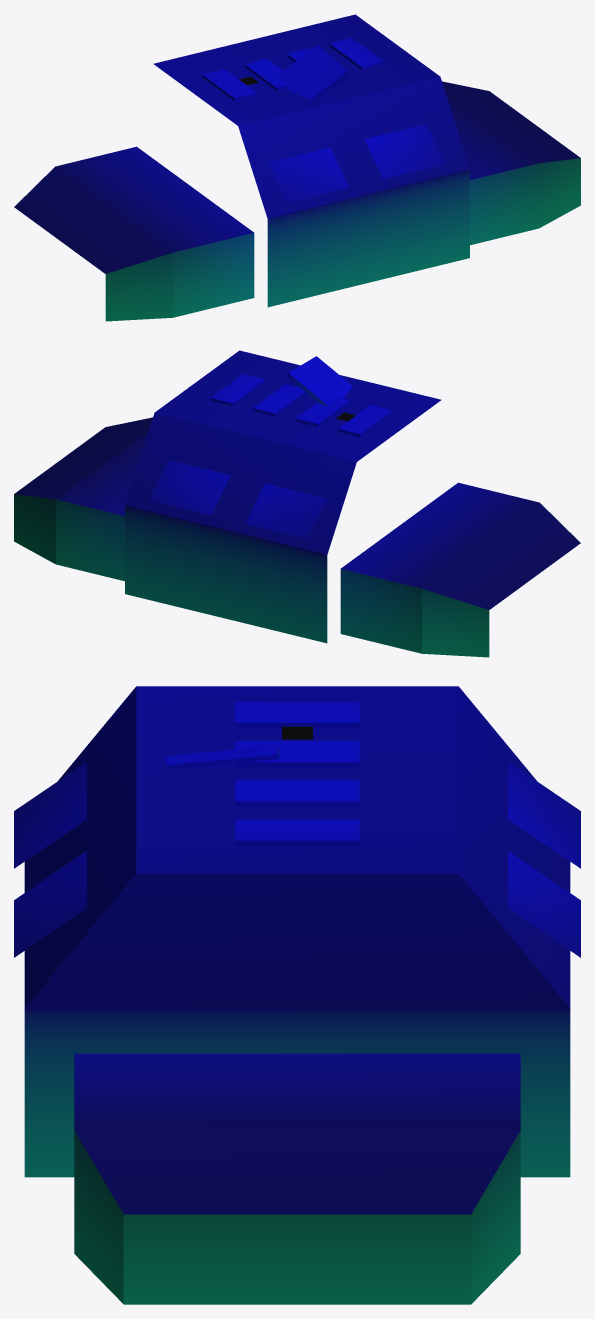
Rendered from l_turretgenerator_damaged.glb.
3 renders of one model, top to bottom at view 1: azimuth 30°, elevation 25°; view 2: azimuth 150°, elevation 25°; view 3: azimuth 270°, elevation 25°, orthographic. The views are drawn at different scales.
Visible parts, largest first — view 1: lod0_PowerGenerator; view 2: lod0_PowerGenerator; view 3: lod0_PowerGenerator.
Part boxes in pixels (left/top/right/bottom): lod0_PowerGenerator: left=14, top=14, right=580, bottom=321; lod0_PowerGenerator: left=14, top=350, right=580, bottom=657; lod0_PowerGenerator: left=14, top=686, right=580, bottom=1304.
Bounding box in the file's own units: 16.8 × 6.27 × 9.14.
